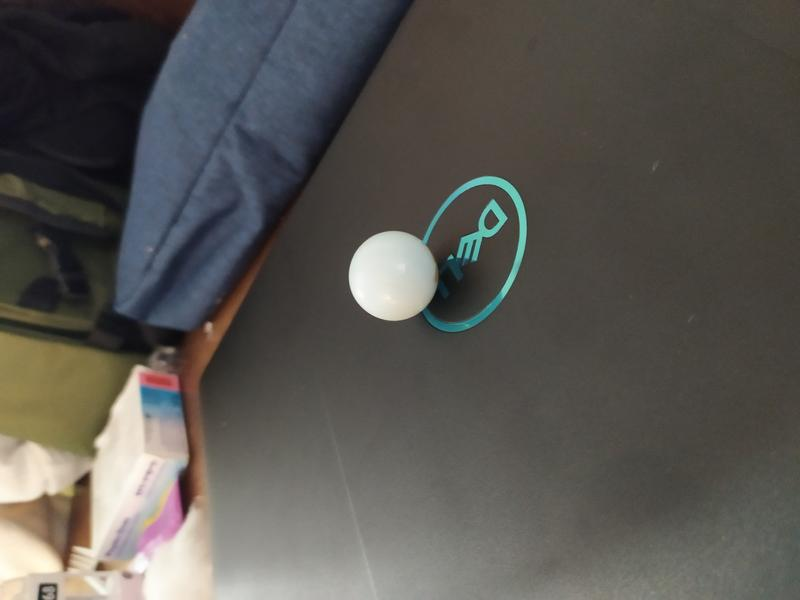Warning: (346, 227, 442, 324)
